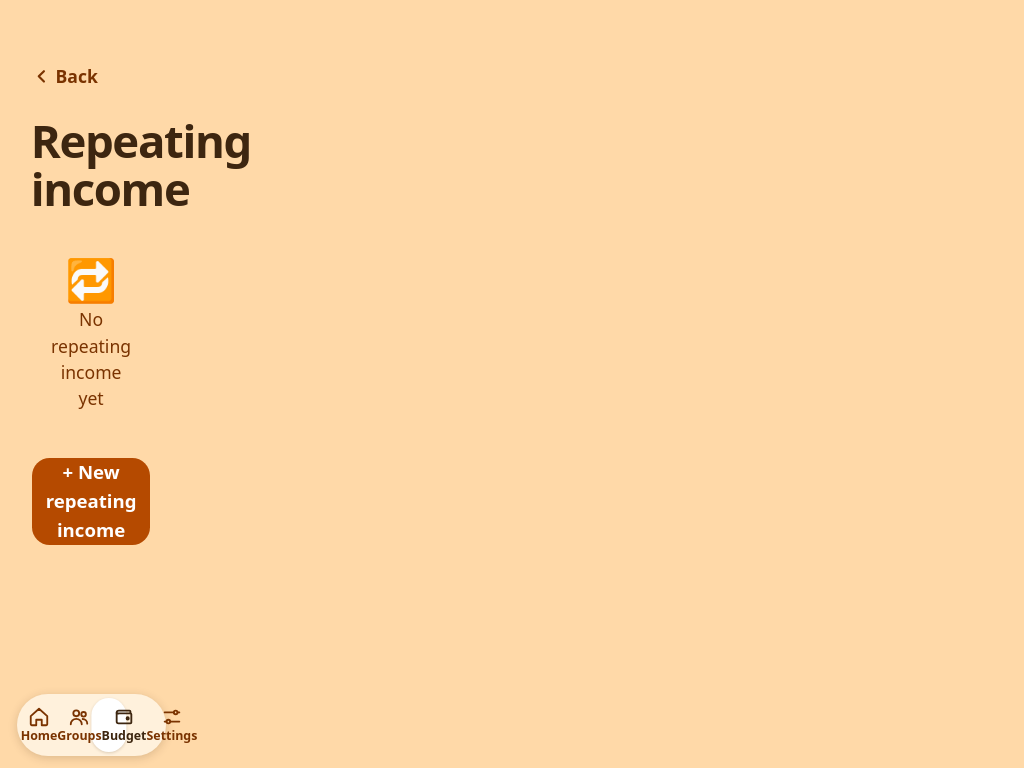
Scenario: the repeating income screen › "+ New repeating income" › shows the new block and no empty text after the save
Expected: the text "No repeating income yet" is shown, [51,306,131,412]
Click the button "+ New repeating income" at (91, 502), box [31,457,151,546]
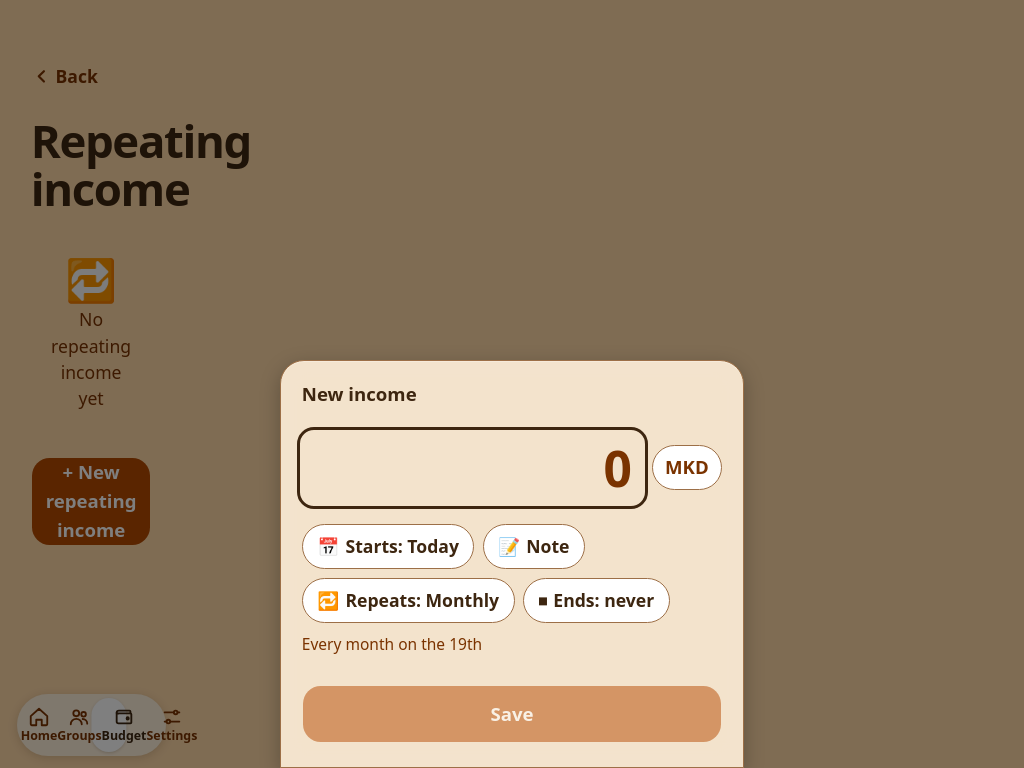
Type "30000" into the field named "Amount" at (473, 468), box [300,430,646,506]
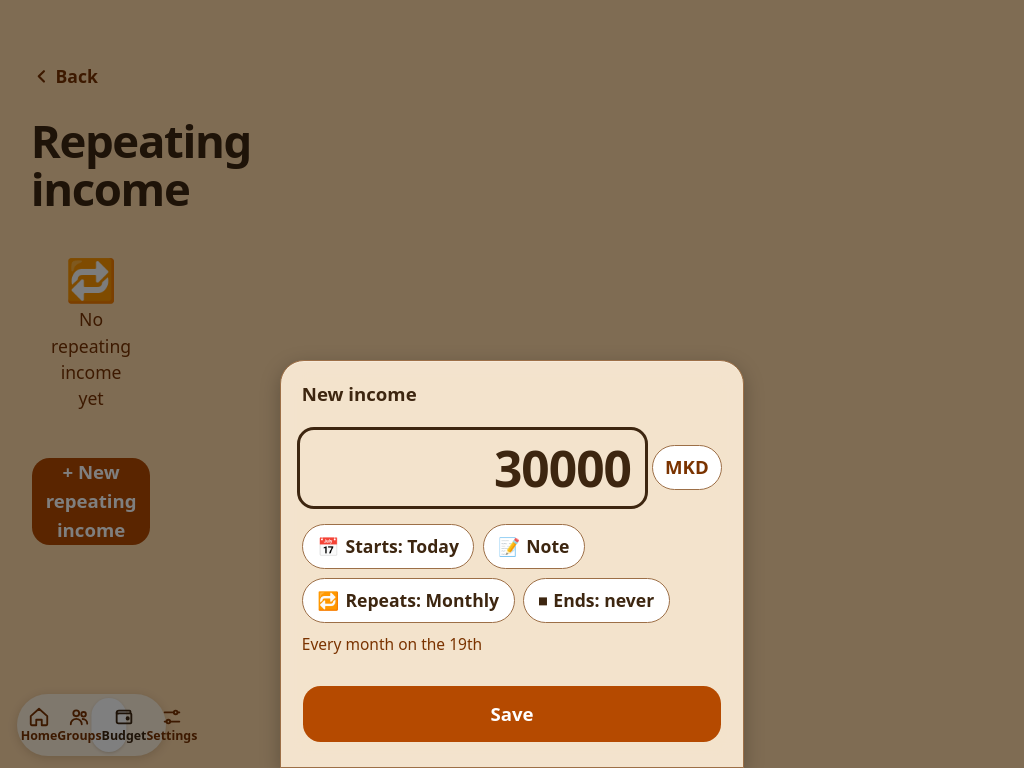
Click the button "Save" at (512, 714), box [302,685,722,743]
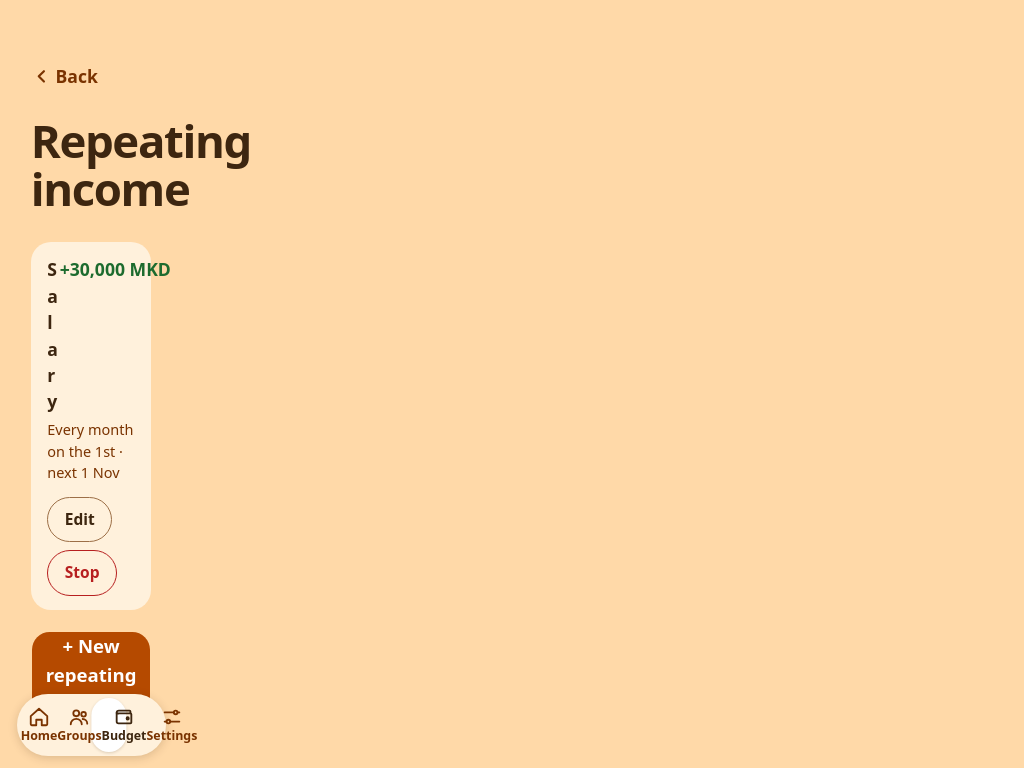
Now the number of list items is 1, box [31,242,151,610]
Now the text "No repeating income yet" is gone
